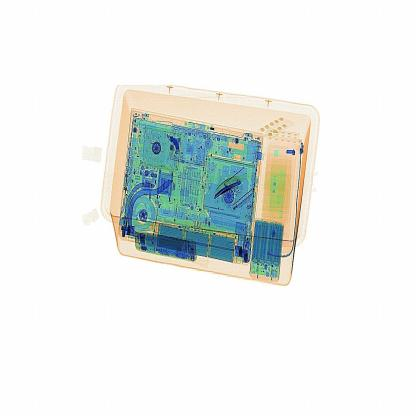pliers: (213, 163, 257, 204)
